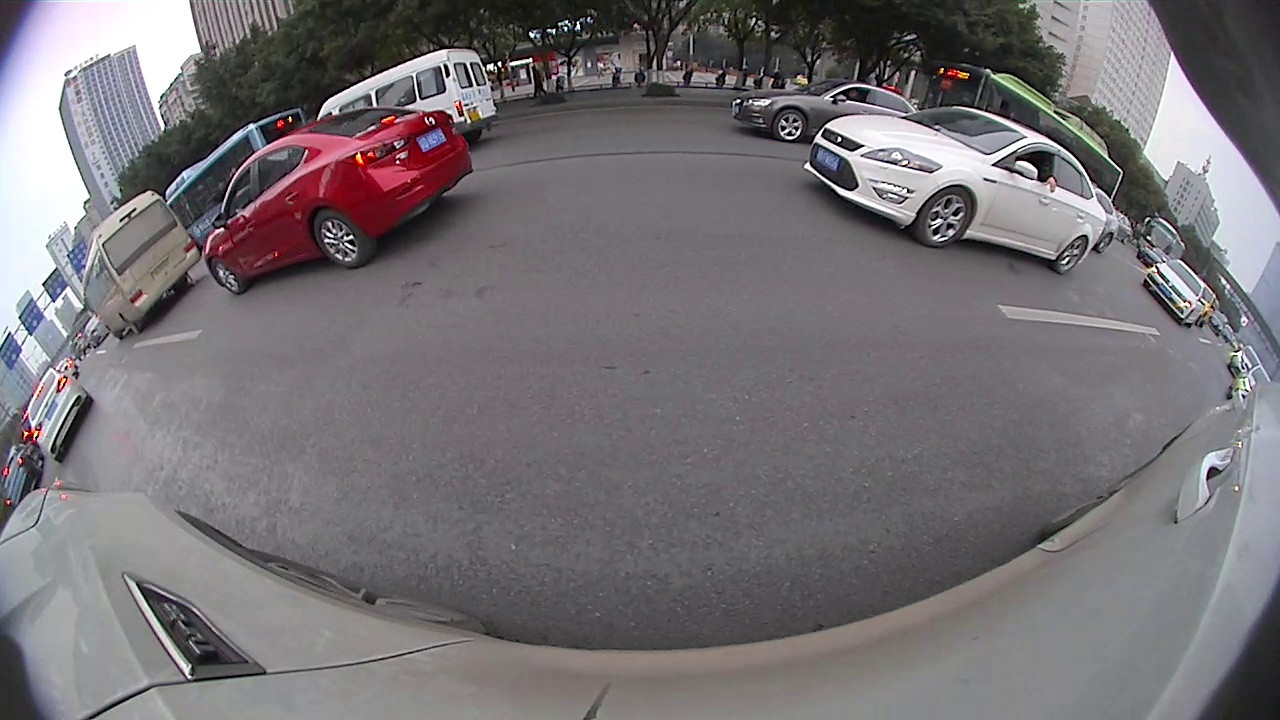bus: (926, 61, 1123, 215), (165, 108, 301, 261), (82, 191, 200, 343)
car: (809, 105, 1106, 278), (205, 109, 472, 292), (319, 50, 493, 141), (731, 77, 933, 142), (23, 368, 95, 459), (1146, 261, 1214, 322)
front: (918, 188, 972, 247), (210, 260, 245, 293), (774, 111, 803, 139)
rear: (315, 208, 373, 265), (1053, 239, 1088, 273), (1099, 233, 1115, 250)
